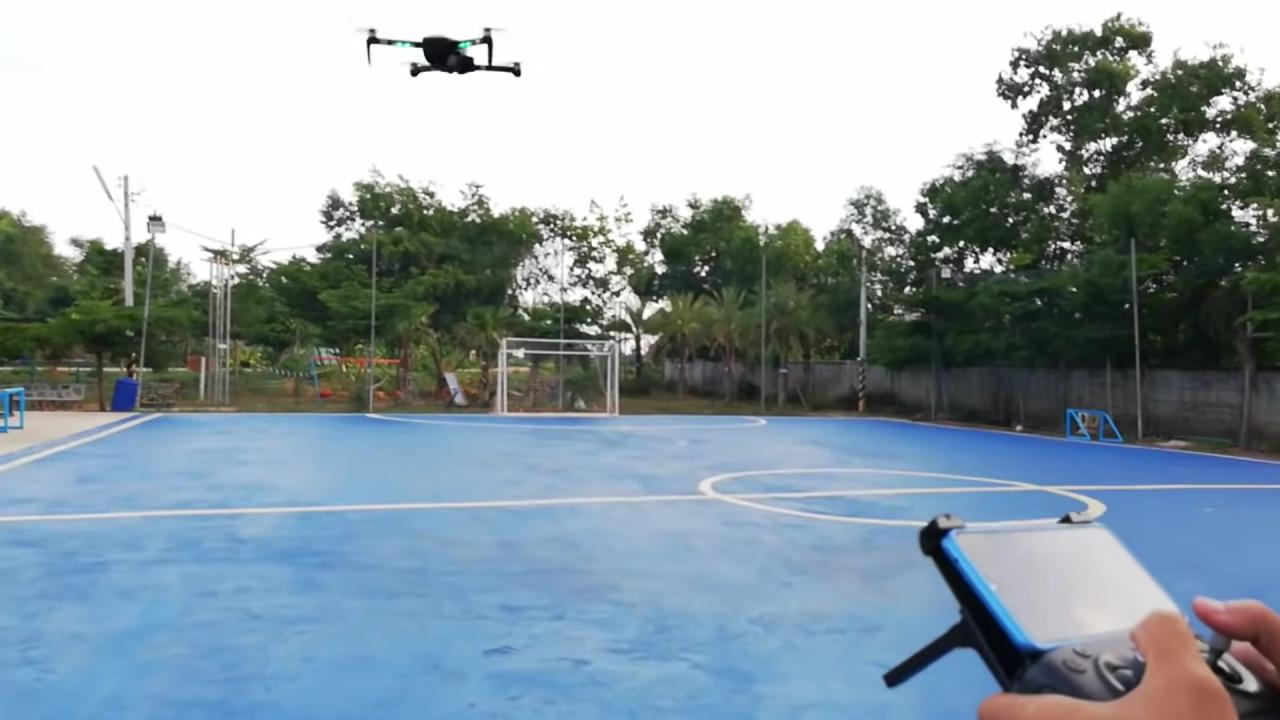Drone: (341, 16, 534, 90)
